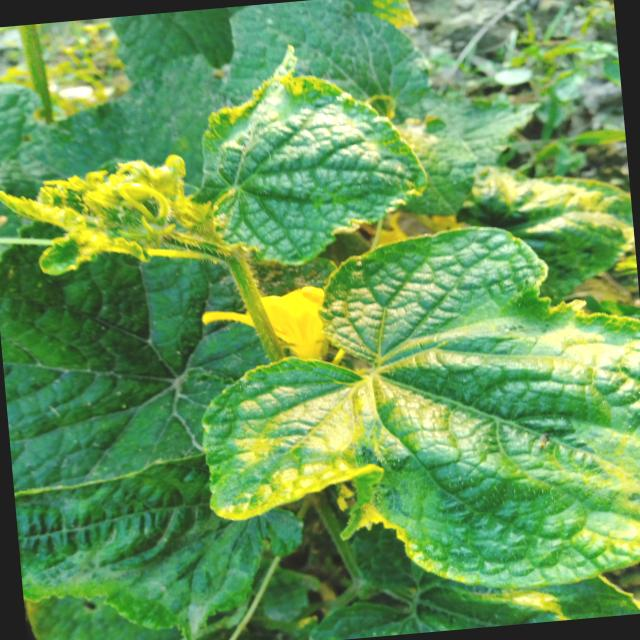cucumber_healthy: (181, 211, 640, 618), (0, 220, 270, 640), (182, 48, 436, 275)
